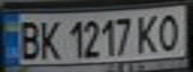1: (63, 17, 84, 59), (100, 16, 118, 57)
2: (81, 16, 103, 58)
7: (112, 15, 136, 56)
B: (12, 17, 42, 61)
K: (33, 17, 63, 61), (133, 11, 163, 54)
O: (154, 10, 187, 53)
